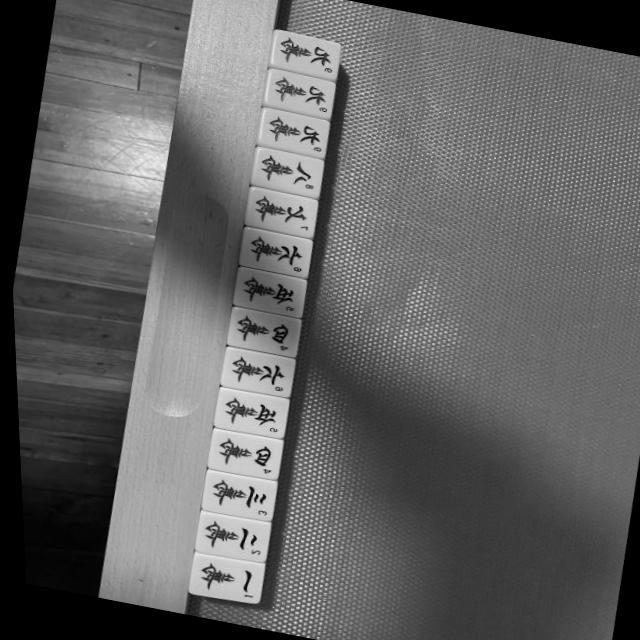sc1: (182, 552, 261, 604)
sc2: (188, 509, 266, 562)
sc3: (196, 467, 274, 522)
sc4: (202, 426, 281, 480), (222, 306, 301, 358)
sc5: (208, 384, 287, 438), (229, 265, 307, 318)
sc6: (215, 344, 294, 398), (236, 227, 313, 277)
sc7: (242, 186, 318, 237)
sc8: (248, 146, 324, 196)
sc9: (253, 107, 329, 157), (261, 70, 337, 119), (269, 31, 343, 78)
